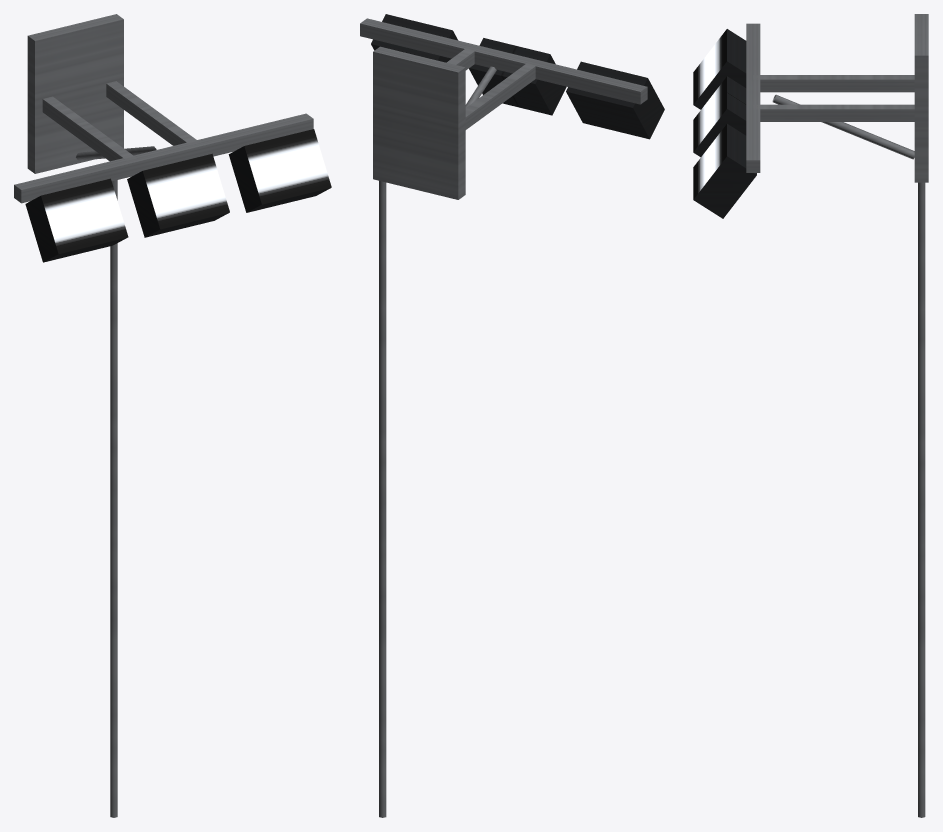
Rendered from SM_INFD_WallFloodRig.fbx.
3 renders of one model, left to right at view 1: azimuth 30°, elevation 25°; view 2: azimuth 150°, elevation 25°; view 3: azimuth 270°, elevation 25°, orthographic. The views are drawn at different scales.
Visible parts, largest first — view 1: SM_INFD_WallFloodRig_LOD0; view 2: SM_INFD_WallFloodRig_LOD0; view 3: SM_INFD_WallFloodRig_LOD0.
Part boxes in pixels (x1=…): SM_INFD_WallFloodRig_LOD0: x1=14, y1=14, x2=331, y2=817; SM_INFD_WallFloodRig_LOD0: x1=360, y1=14, x2=664, y2=817; SM_INFD_WallFloodRig_LOD0: x1=693, y1=14, x2=928, y2=817.
Size of what is drawn, in the model's own units: 2.3 by 6 by 1.68.
